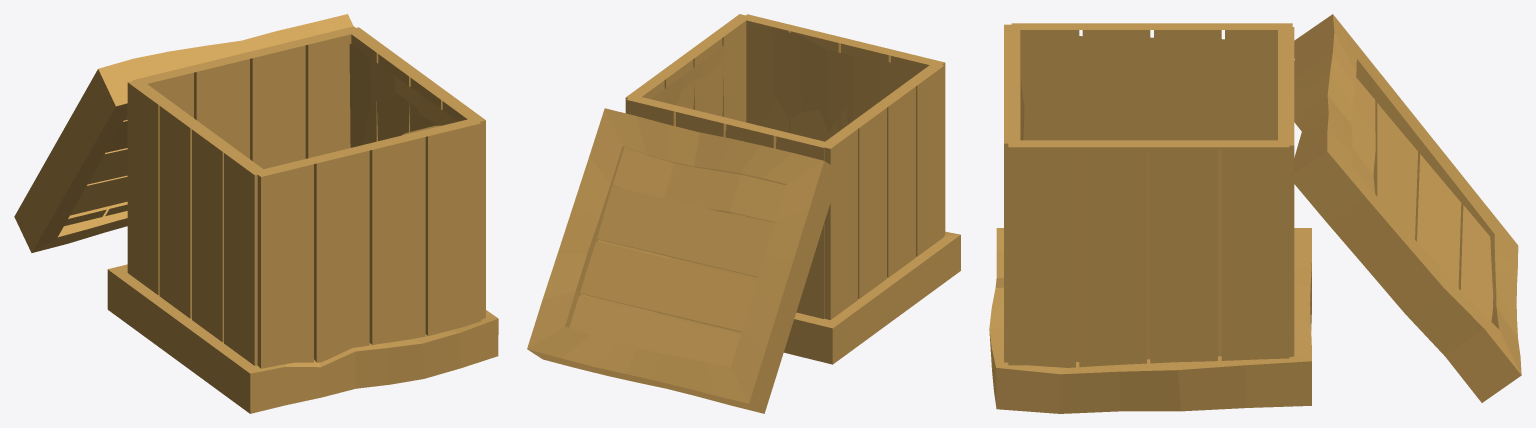
Rendered from wooden_container_open.fbx.
3 views of the same model, side by side, from view 1: azimuth 30°, elevation 25°; view 2: azimuth 150°, elevation 25°; view 3: azimuth 270°, elevation 25° (orthographic). The views are drawn at different scales.
Visible parts, largest first — view 1: Cube.002, Cube.003; view 2: Cube.003, Cube.002; view 3: Cube.002, Cube.003.
Boxes of the visible parts, x1,y1,x2,y2 form: Cube.002: (107,26,498,413); Cube.003: (14,14,353,252); Cube.003: (527,108,840,413); Cube.002: (625,14,960,364); Cube.002: (989,23,1311,413); Cube.003: (1289,14,1521,402).
Size of the model in its own units: 206 by 186 by 337.
